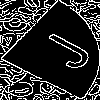J: (25, 25, 98, 73)
